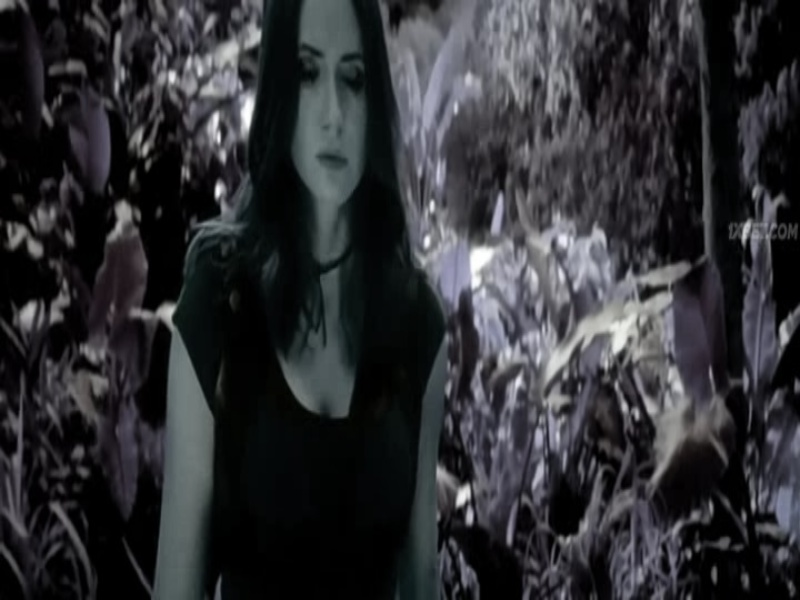TsisyArotava: (256, 1, 404, 230)
